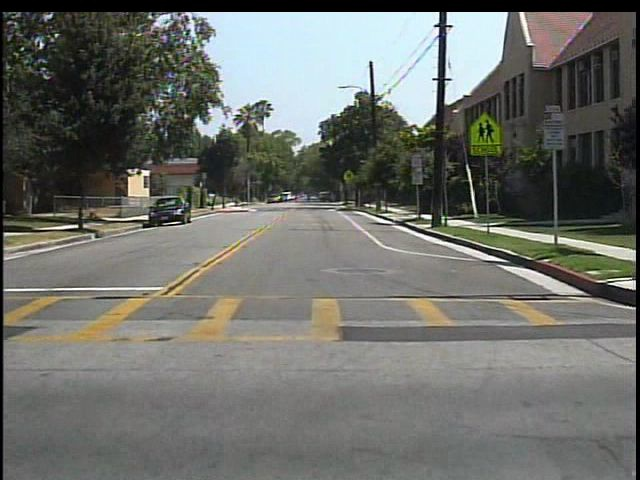person: (301, 190, 316, 207)
